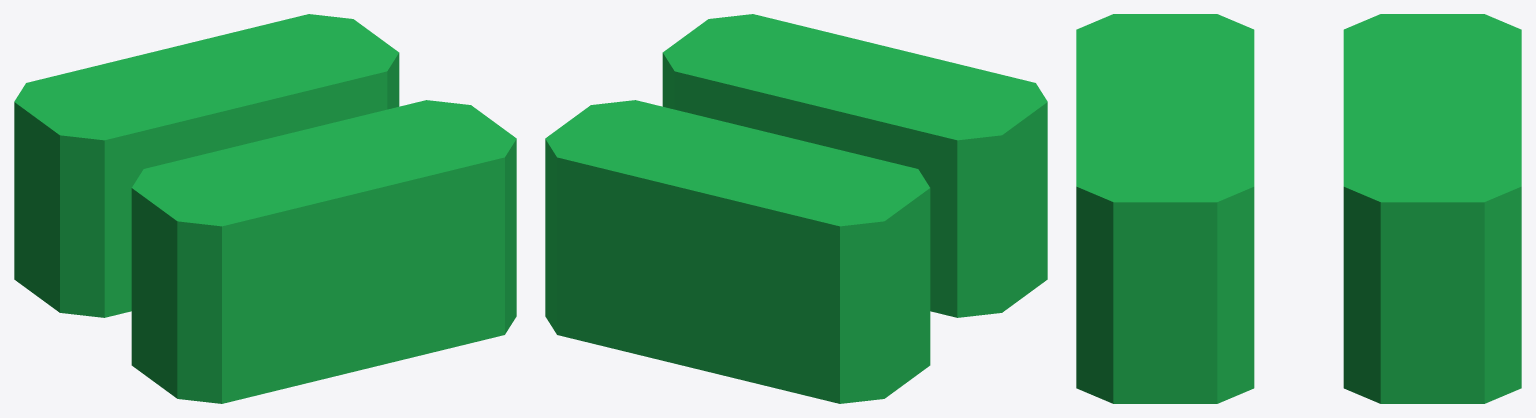
Rendered from rll.fbx.
3 views of the same model, side by side, from view 1: azimuth 30°, elevation 25°; view 2: azimuth 150°, elevation 25°; view 3: azimuth 270°, elevation 25° (orthographic). The views are drawn at different scales.
Visible parts, largest first — view 1: Cube.001; view 2: Cube.001; view 3: Cube.001.
Boxes of the visible parts, left/top/right/bottom form: Cube.001: left=14, top=14, right=516, bottom=403; Cube.001: left=545, top=14, right=1047, bottom=403; Cube.001: left=1076, top=14, right=1521, bottom=403.
Bounding box in the file's own units: 60 × 30 × 60.
